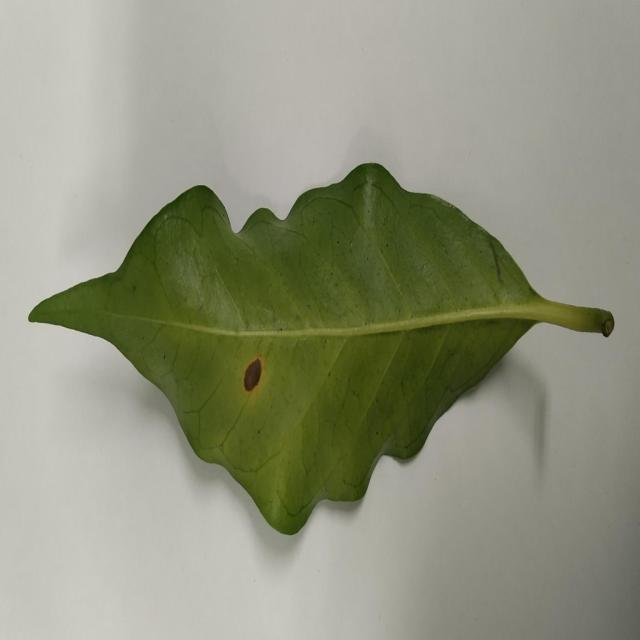Enfermedad-Mancha-de-hierro: (27, 163, 616, 538)
